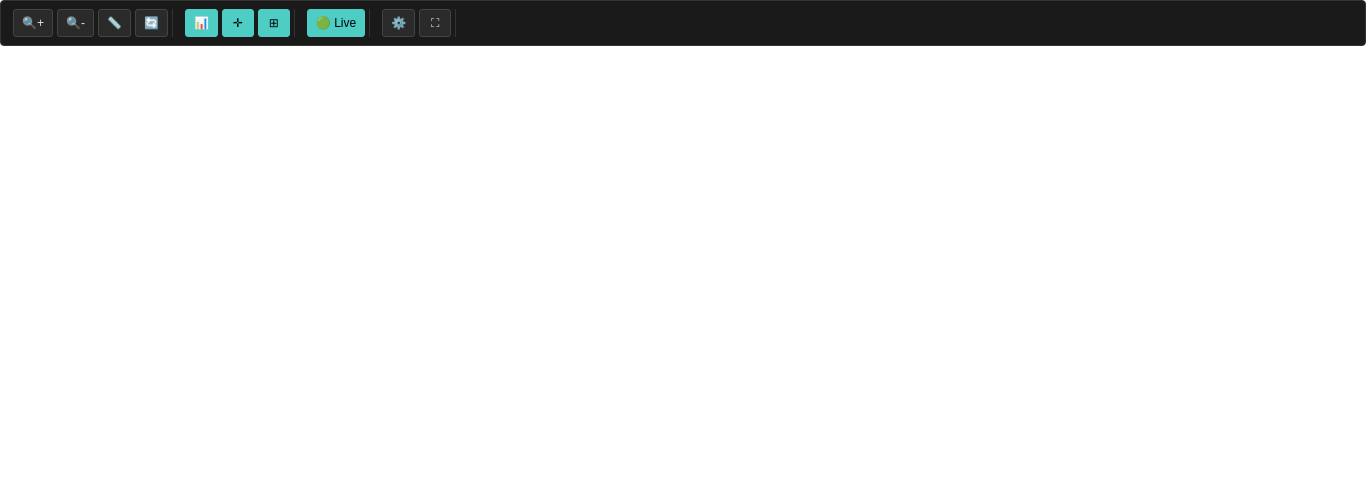
Scenario: ChartControls › opens settings panel when settings button is clicked
What coordinates should you click on to do the following:
click the button titled "Chart Settings"
I would click on:
 (399, 23)
Its box is [382,9,415,37].
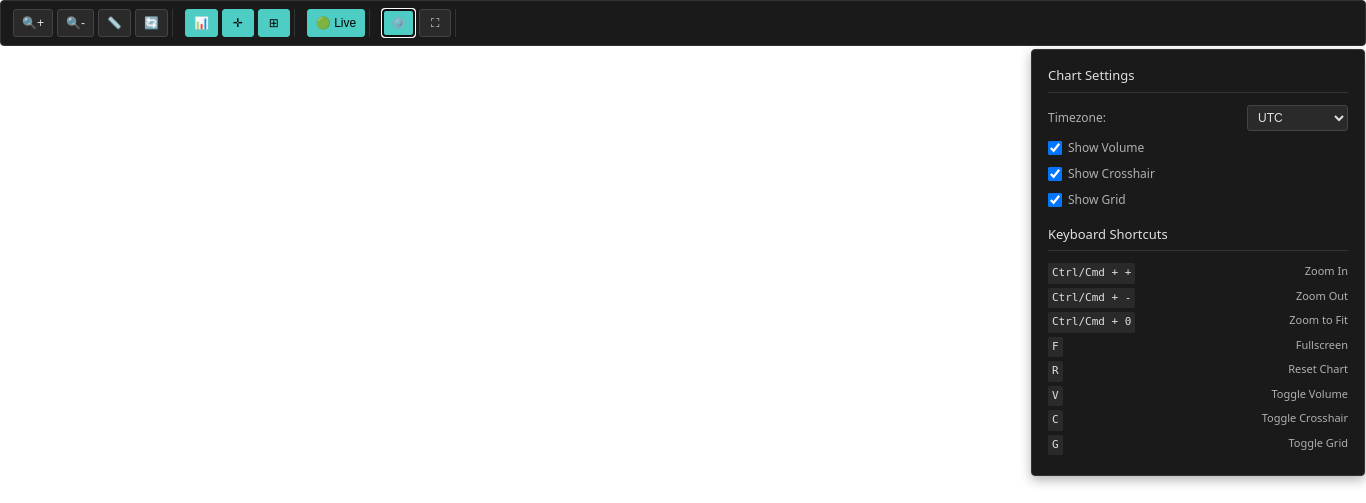
expect the heading "Chart Settings" is shown: met, box [1048,66,1348,92]
expect the text "Timezone:" is shown: met, box [1048,108,1106,126]
expect the text "Show Volume" is shown: met, box [1048,138,1144,156]
